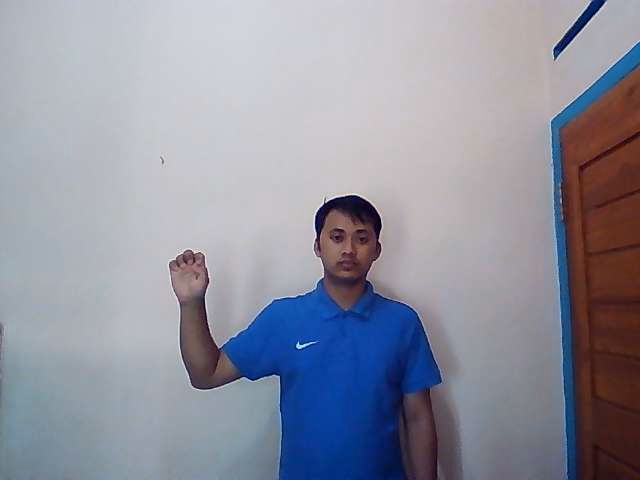E: (167, 249, 213, 302)
